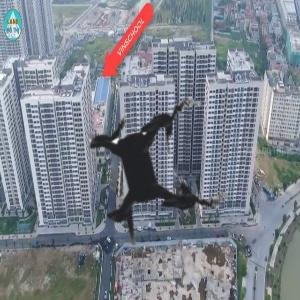drone: (26, 42, 277, 293)
